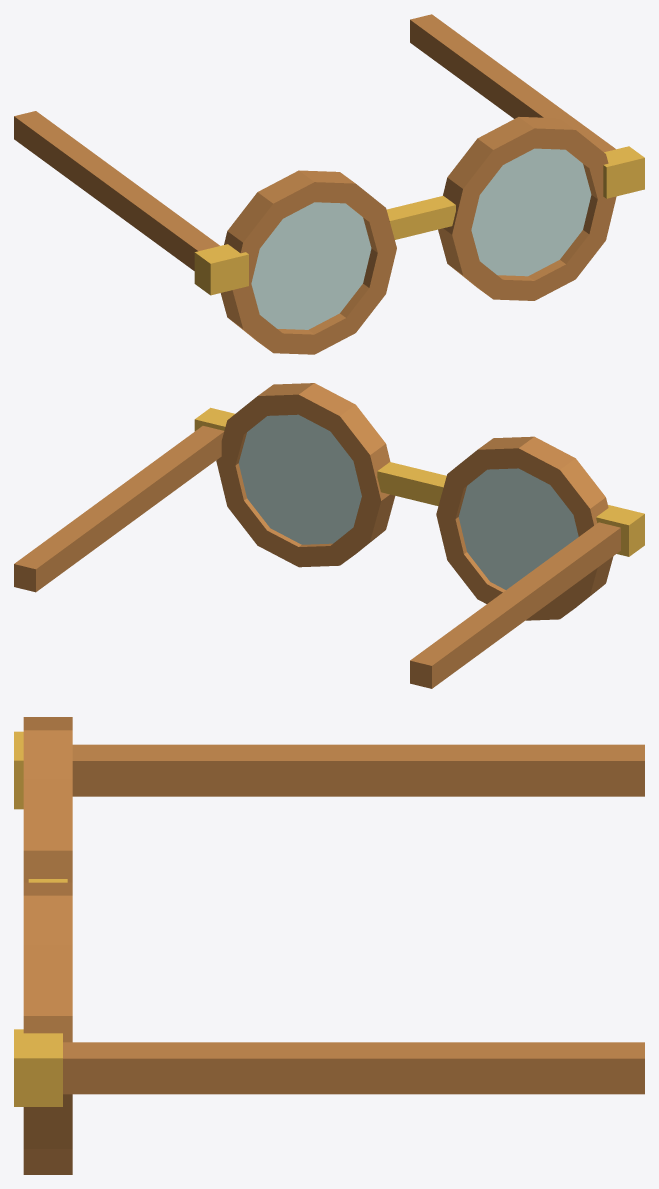
File: CatCafe_Accessory_ReadingGlasses.glb
The picture shows the model from 3 angles, top to bottom: view 1: azimuth 30°, elevation 25°; view 2: azimuth 150°, elevation 25°; view 3: azimuth 270°, elevation 25°; orthographic projection. The views are drawn at different scales.
Visible parts, largest first — view 1: CatCafe_Accessory_ReadingGlasses; view 2: CatCafe_Accessory_ReadingGlasses; view 3: CatCafe_Accessory_ReadingGlasses.
Boxes of the visible parts, x1,y1,x2,y2 form: CatCafe_Accessory_ReadingGlasses: (14,14,644,354); CatCafe_Accessory_ReadingGlasses: (14,383,644,688); CatCafe_Accessory_ReadingGlasses: (14,717,644,1174).
Size of the model in its own units: 0.79 by 0.3 by 0.645.
Materials: 1 (1 with a texture image).
